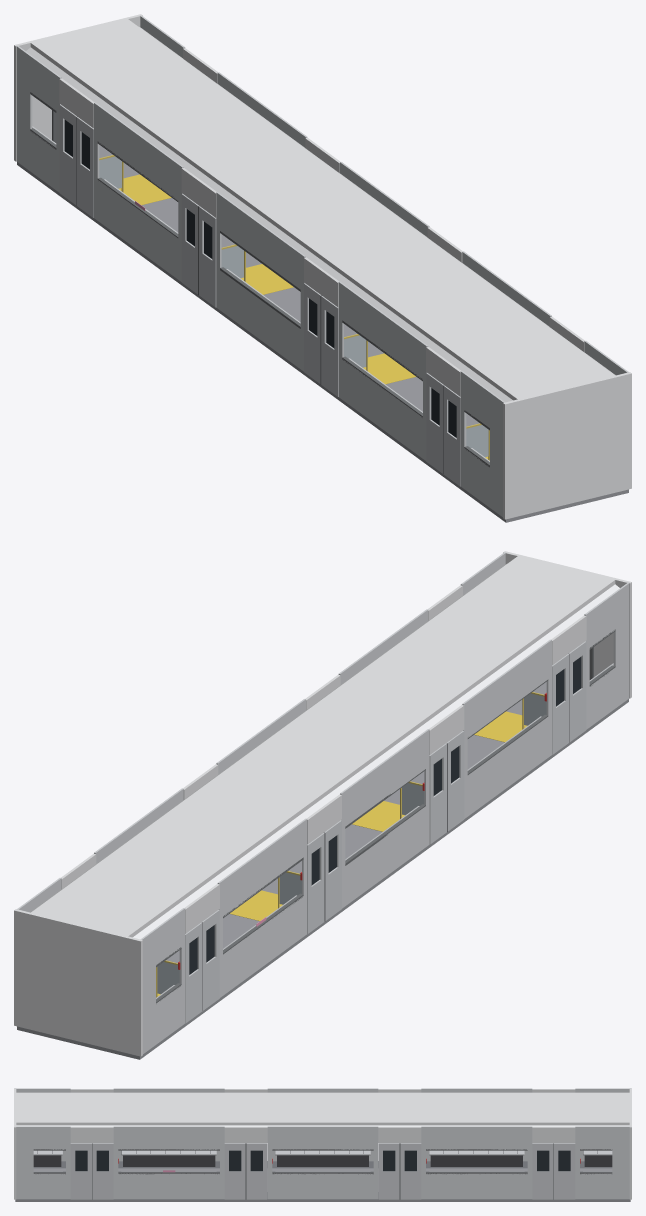
File: coach_interior.gltf
The picture shows the model from 3 angles, top to bottom: view 1: azimuth 30°, elevation 25°; view 2: azimuth 150°, elevation 25°; view 3: azimuth 270°, elevation 25°; orthographic projection. The views are drawn at different scales.
Visible parts, largest first — view 1: Ceiling, EndWall-1, Floor, Cove-1, Inner-1Low_-6.8, Inner-1Low_3.2, Inner-1Low_-1.8, Inner-1High_3.2, Inner-1High_-6.8, Inner-1High_-1.8, Inner-1Low_8.2, Inner-1Low_-10.0 (+21 smaller); view 2: Ceiling, EndWall1, Floor, Cove-1, Inner-1Low_3.2, Inner-1Low_-6.8, Inner-1Low_-1.8, Inner-1High_-6.8, Inner-1High_3.2, Inner-1High_-1.8, Inner-1Low_-10.0, Inner-1Low_8.2 (+21 smaller); view 3: Ceiling, Floor, Inner1Low_3.2, Inner1Low_-1.8, Inner1Low_-6.8, Inner1High_3.2, Inner1High_-1.8, Inner1High_-6.8, Inner1Low_-10.0, Inner1Low_8.2, Inner1High_8.2, Inner1High_-10.0 (+45 smaller).
Part boxes in pixels (x1,y1,x2,y2): Ceiling: (30, 18, 615, 400); EndWall-1: (503, 372, 631, 519); Floor: (17, 145, 628, 522); Cove-1: (26, 47, 512, 402); Inner-1Low_-6.8: (338, 356, 426, 460); Inner-1Low_3.2: (94, 177, 181, 281); Inner-1Low_-1.8: (216, 266, 303, 371); Inner-1High_3.2: (94, 102, 183, 203); Inner-1High_-6.8: (338, 281, 428, 382); Inner-1High_-1.8: (216, 192, 305, 292); Inner-1Low_8.2: (16, 120, 59, 192); Inner-1Low_-10.0: (460, 445, 502, 516); Ceiling: (30, 555, 615, 937); EndWall1: (14, 909, 142, 1056); Floor: (17, 682, 628, 1059); Cove-1: (133, 584, 619, 939); Inner-1Low_3.2: (219, 893, 307, 997); Inner-1Low_-6.8: (464, 714, 551, 818); Inner-1Low_-1.8: (342, 803, 429, 908); Inner-1High_-6.8: (462, 639, 551, 740); Inner-1High_3.2: (217, 818, 307, 919); Inner-1High_-1.8: (340, 729, 429, 829); Inner-1Low_-10.0: (586, 657, 629, 729); Inner-1Low_8.2: (143, 982, 185, 1053); Ceiling: (15, 1092, 630, 1125); Floor: (15, 1168, 630, 1201); Inner1Low_3.2: (421, 1173, 532, 1199); Inner1Low_-1.8: (267, 1173, 378, 1199); Inner1Low_-6.8: (113, 1173, 224, 1199); Inner1High_3.2: (421, 1126, 532, 1149); Inner1High_-1.8: (267, 1126, 378, 1149); Inner1High_-6.8: (113, 1126, 224, 1149); Inner1Low_-10.0: (16, 1173, 70, 1199); Inner1Low_8.2: (575, 1173, 629, 1199); Inner1High_8.2: (575, 1126, 629, 1149); Inner1High_-10.0: (16, 1126, 70, 1149).
Bounding box in the file's own units: 3 × 2.7 × 20.08.
